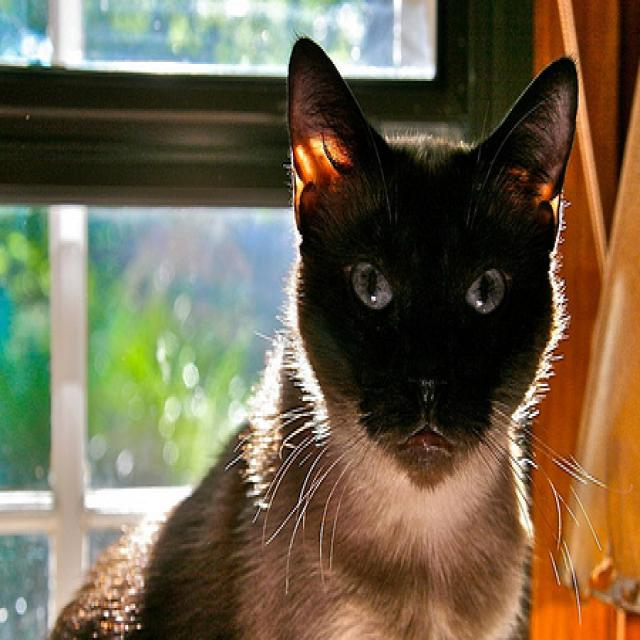Siamese: (22, 30, 580, 640)
